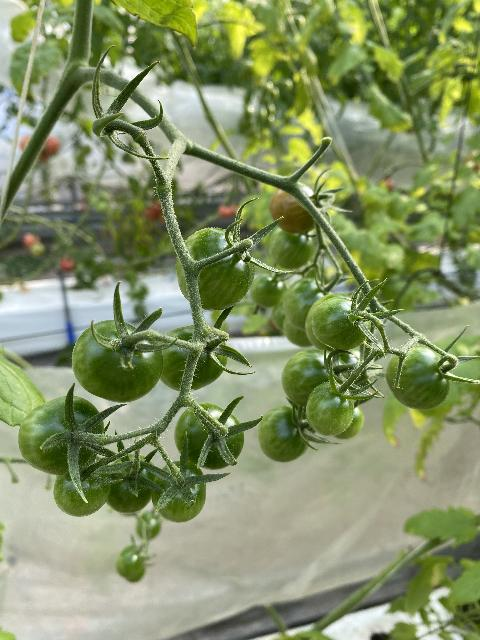l_green: (71, 318, 164, 403), (18, 395, 104, 476), (176, 228, 256, 310), (174, 401, 246, 470), (158, 325, 229, 394), (385, 344, 450, 410), (280, 350, 347, 407), (52, 454, 112, 517), (151, 460, 207, 524), (305, 292, 361, 354), (312, 297, 373, 351), (105, 454, 159, 515), (257, 405, 311, 462), (304, 381, 354, 437), (282, 278, 334, 331), (267, 224, 315, 269), (338, 350, 372, 396), (331, 401, 363, 439)
l_half_ripened: (268, 182, 322, 235)
